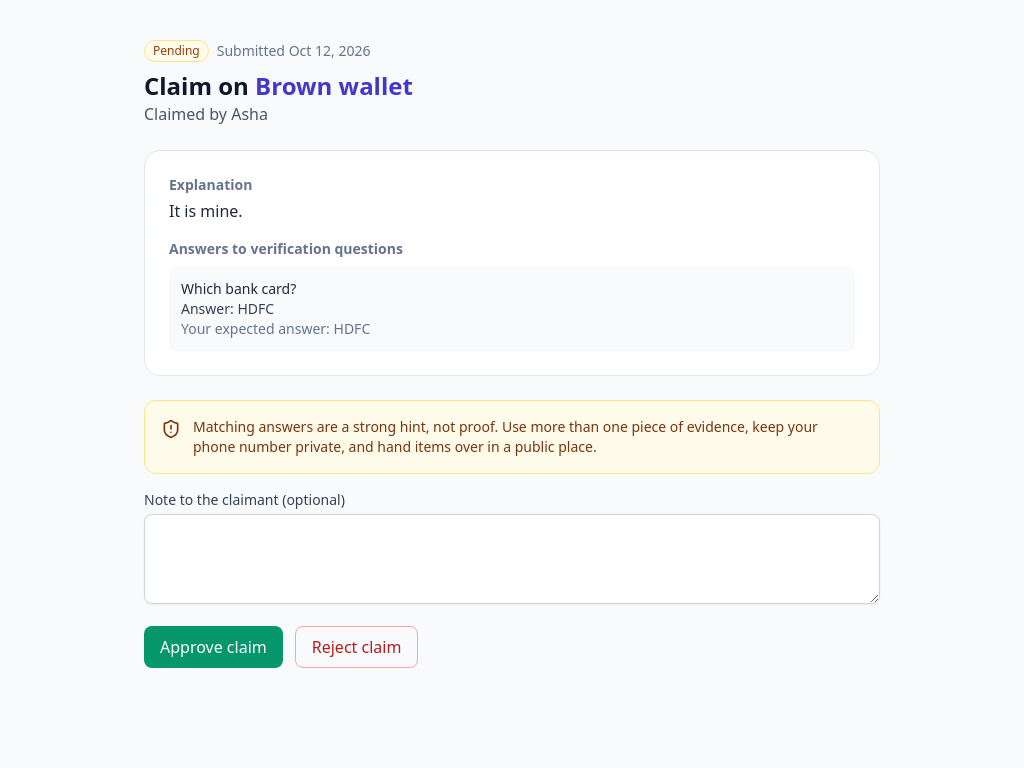
Test case: ClaimDetails › lets the finder compare answers and approve after confirming
Expected: the text "Your expected answer: HDFC" is shown, top-left (181, 319), bottom-right (370, 338)
Type "Looks right." into the text box labelled "Note to the claimant (optional)" at (512, 559), box top-left (144, 514), bottom-right (880, 604)
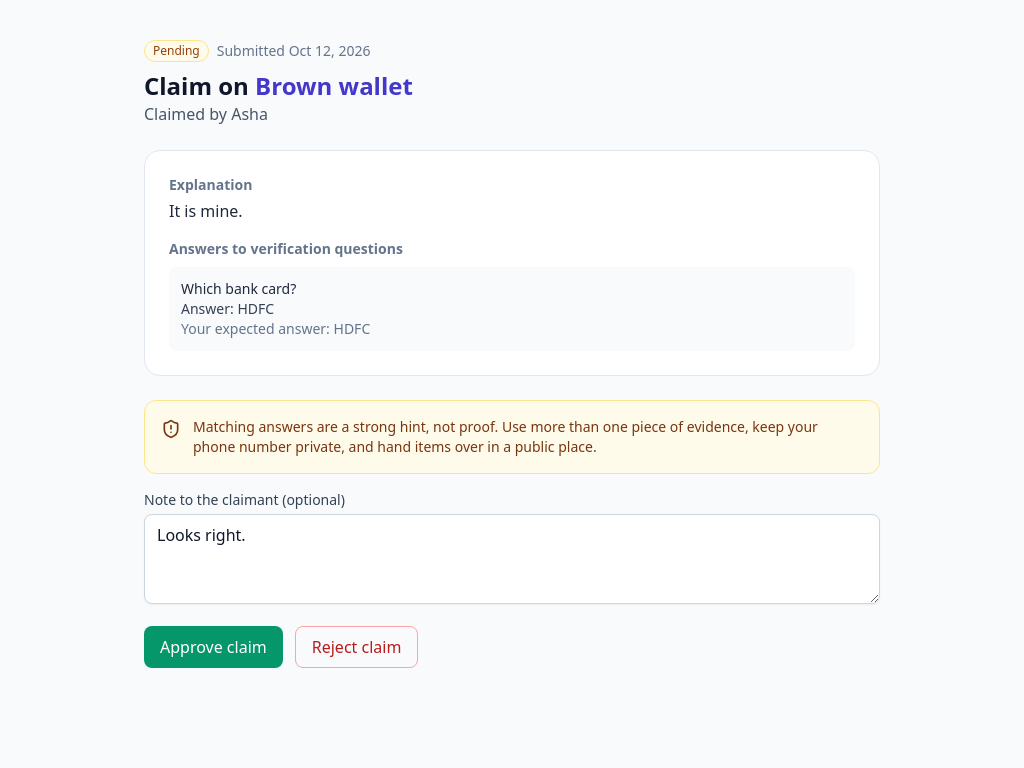
Click the button "Approve claim" at (213, 647), box top-left (144, 626), bottom-right (283, 668)
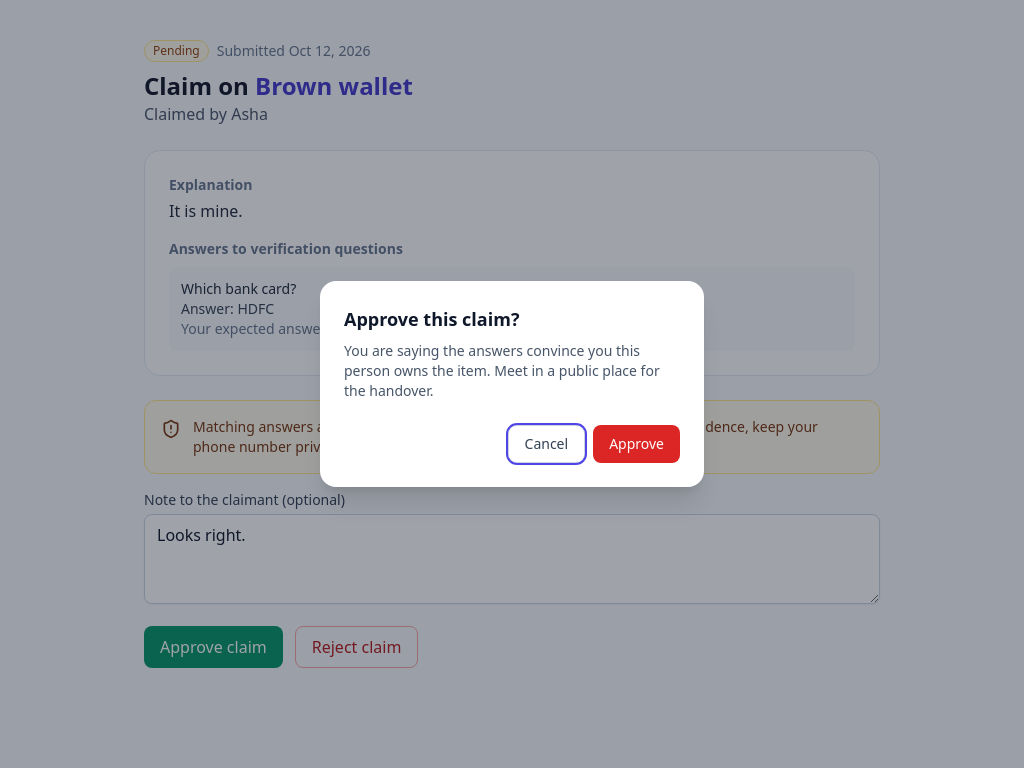
Click the button "Approve" at (637, 444), box top-left (593, 425), bottom-right (680, 463)
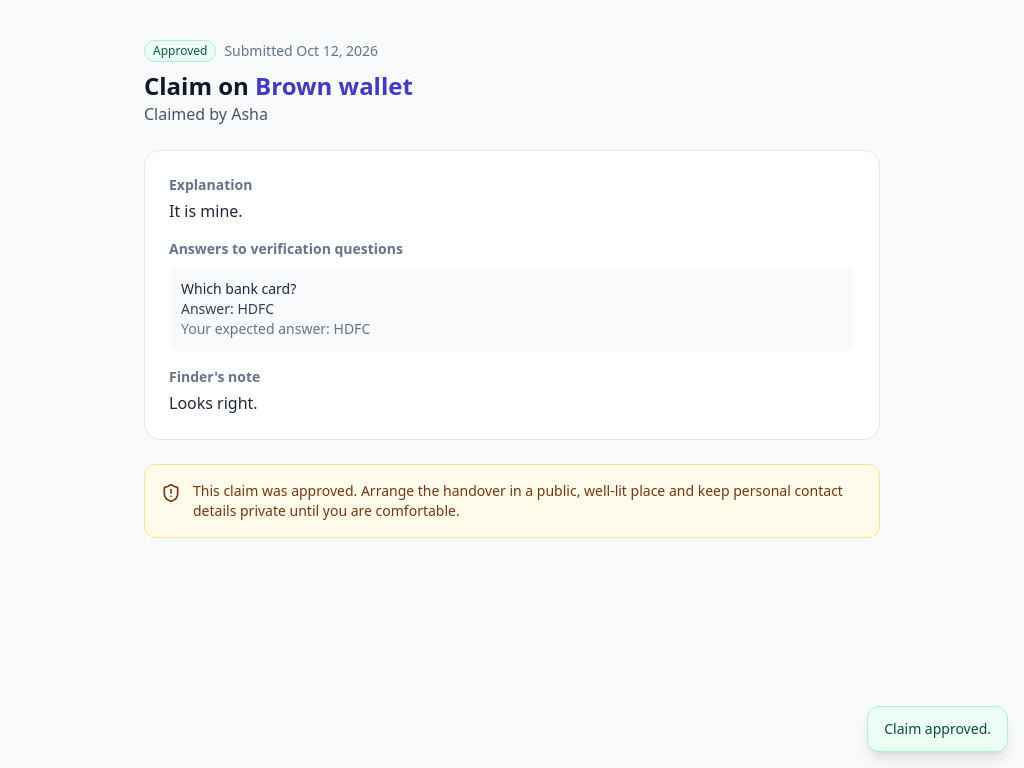
Expected: the text "Approved" is shown, top-left (144, 40), bottom-right (216, 62)
